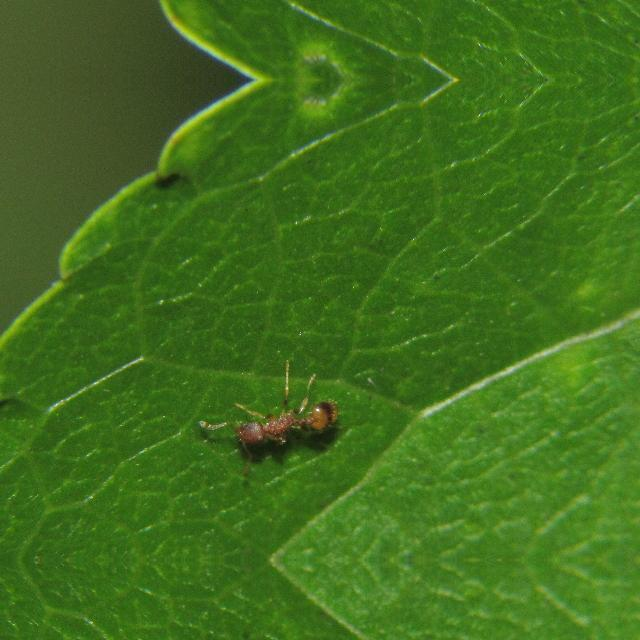Temnothorax: (212, 384, 352, 450)
